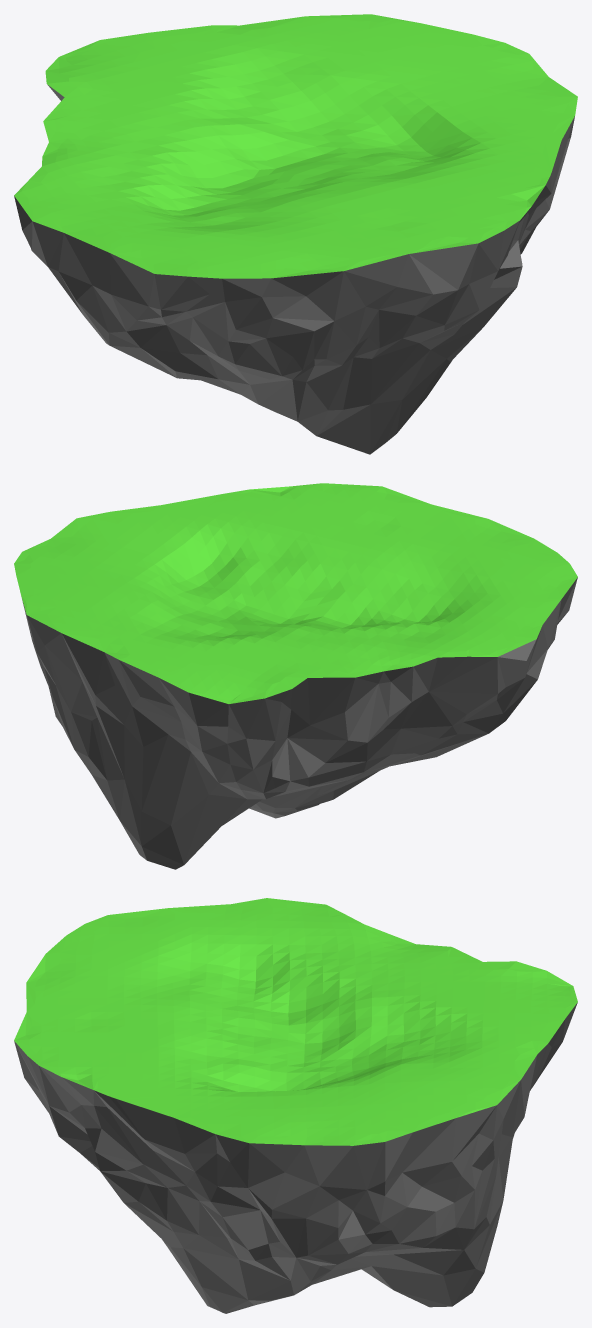
File: island_with_pond.glb
3 renders of one model, top to bottom at view 1: azimuth 30°, elevation 25°; view 2: azimuth 150°, elevation 25°; view 3: azimuth 270°, elevation 25°, orthographic. The views are drawn at different scales.
Visible parts, largest first — view 1: Plane.195; view 2: Plane.195; view 3: Plane.195.
Part boxes in pixels (x1=…): Plane.195: x1=14, y1=14, x2=577, y2=454; Plane.195: x1=14, y1=483, x2=577, y2=869; Plane.195: x1=14, y1=898, x2=577, y2=1313.
Size of the model in its own units: 12.82 by 6.59 by 12.27.
